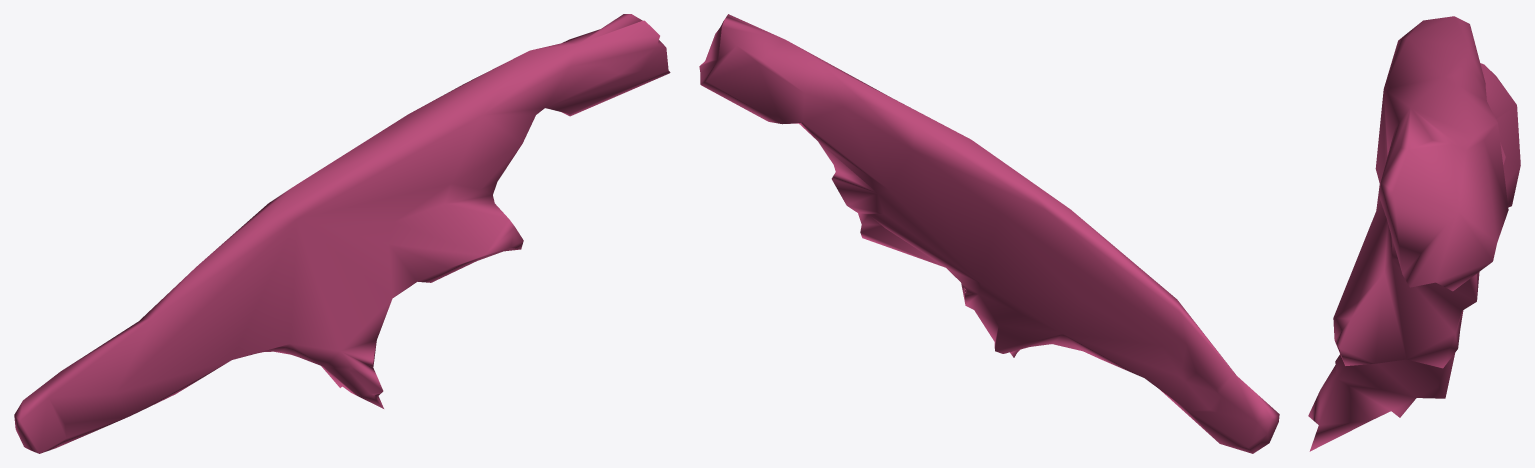
3 renders of one model, left to right at view 1: azimuth 30°, elevation 25°; view 2: azimuth 150°, elevation 25°; view 3: azimuth 270°, elevation 25°, orthographic. The views are drawn at different scales.
Visible parts, largest first — view 1: 左侧踇收肌横头; view 2: 左侧踇收肌横头; view 3: 左侧踇收肌横头.
Boxes of the visible parts, box(x1,y1,x2,y2) form: 左侧踇收肌横头: box(14, 14, 670, 453); 左侧踇收肌横头: box(699, 14, 1279, 453); 左侧踇收肌横头: box(1308, 16, 1520, 451).
Bounding box in the file's own units: 0.071 × 0.033 × 0.011.
